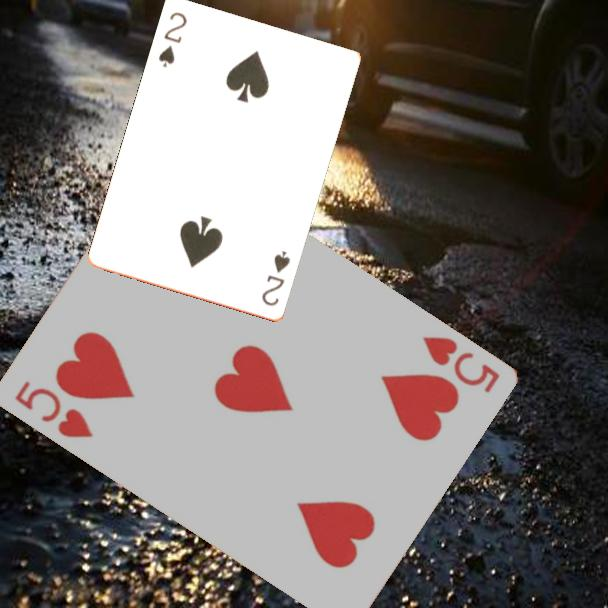h05: (418, 332, 502, 397), (11, 377, 96, 441)
s02: (258, 248, 294, 309), (155, 9, 190, 71)
